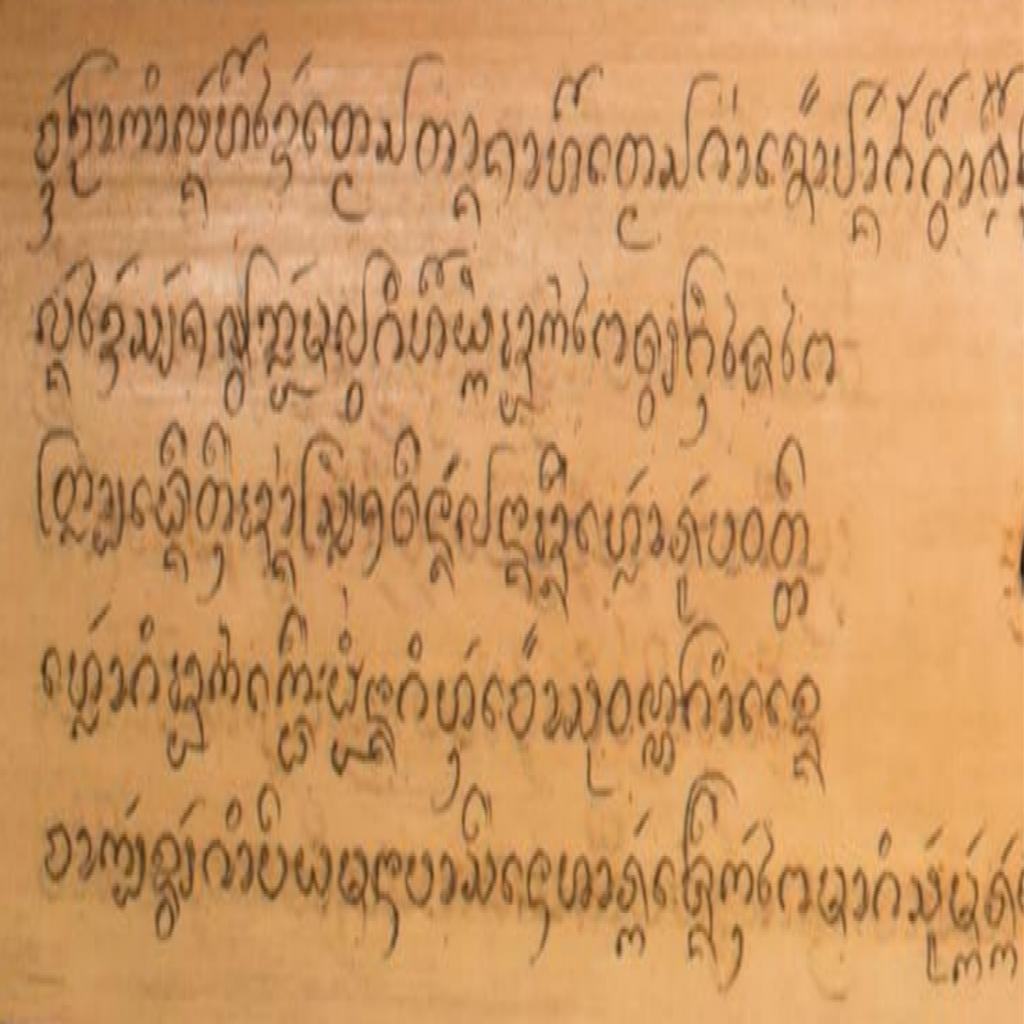LN033: (617, 850, 650, 919)
